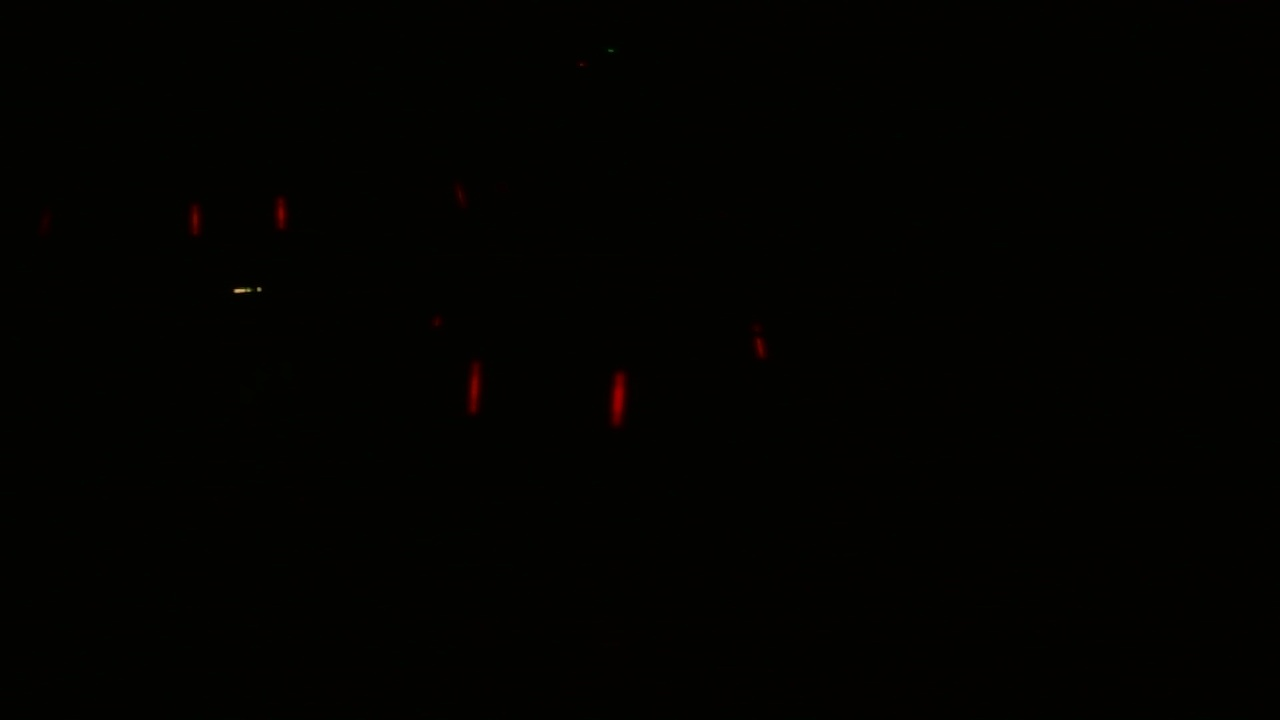pair1: (463, 345, 630, 433), (184, 187, 290, 237)
